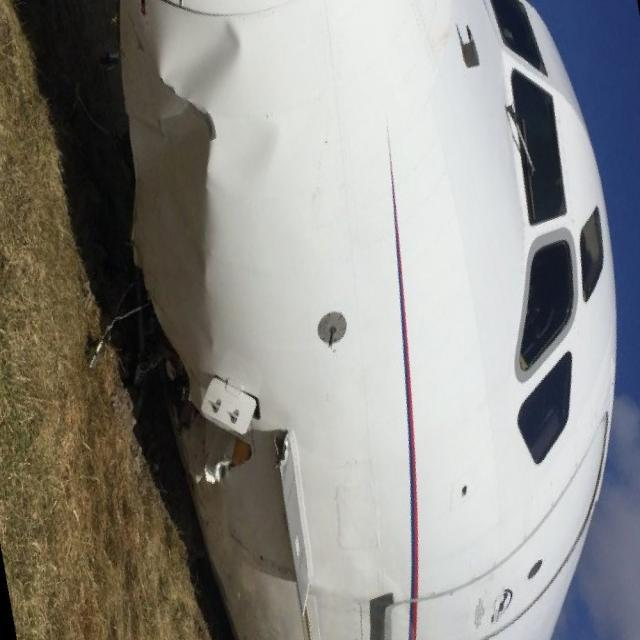dent: (165, 15, 249, 98), (225, 118, 285, 182)
